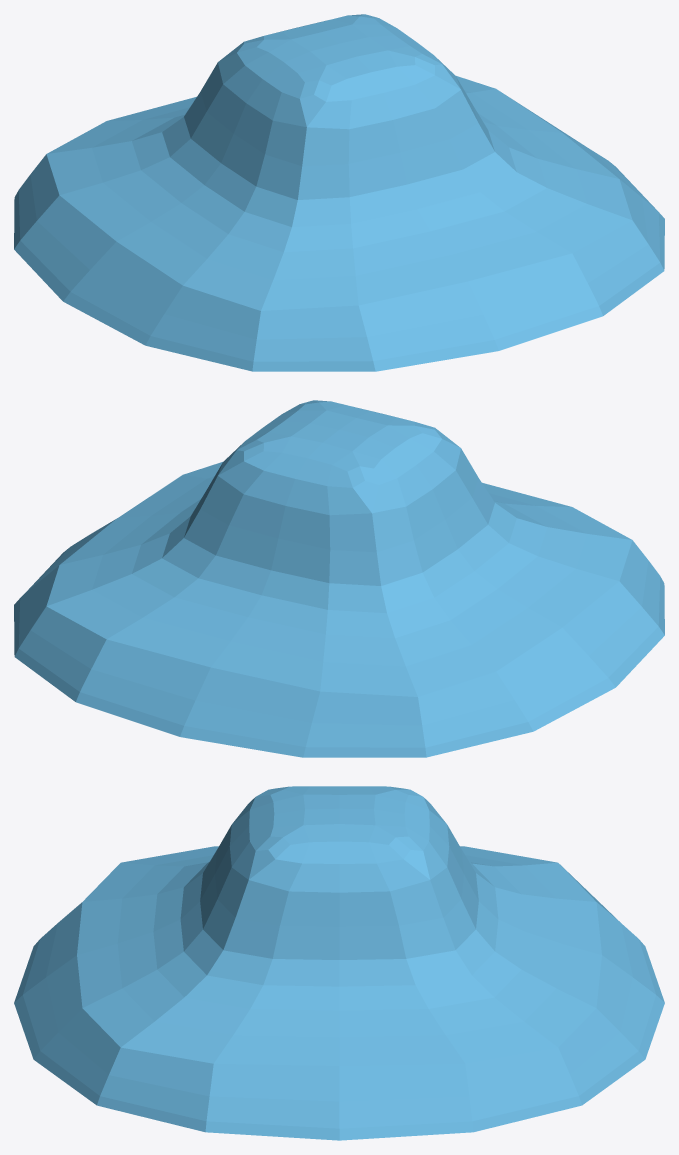
The model's file is Cos_Hat1.fbx.
The picture shows the model from 3 angles, top to bottom: view 1: azimuth 30°, elevation 25°; view 2: azimuth 150°, elevation 25°; view 3: azimuth 270°, elevation 25°; orthographic projection.
Visible parts, largest first — view 1: Cube.001; view 2: Cube.001; view 3: Cube.001.
Part boxes in pixels (box(x1,y1,x2,y2)): Cube.001: box(14, 14, 664, 371); Cube.001: box(14, 400, 664, 757); Cube.001: box(14, 786, 664, 1140).
Bounding box in the file's own units: 167 × 55.06 × 167.
